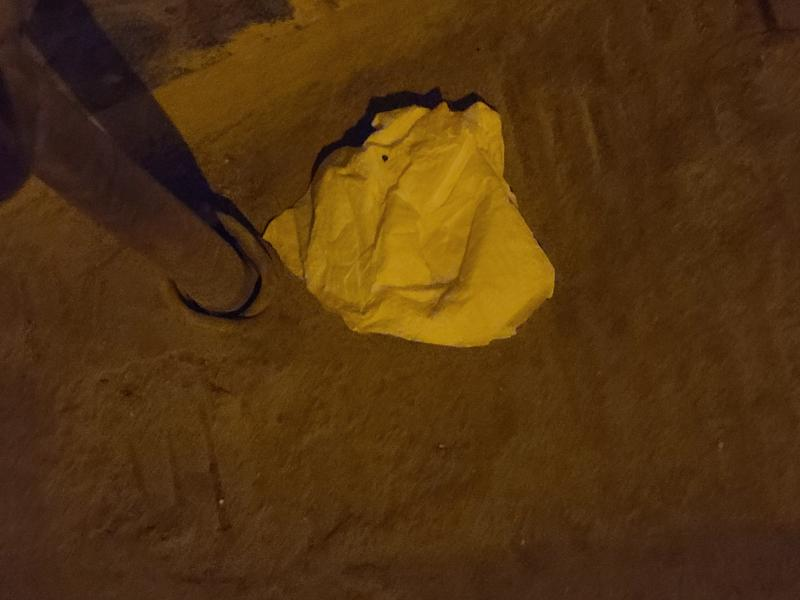papel: (262, 89, 557, 351)
